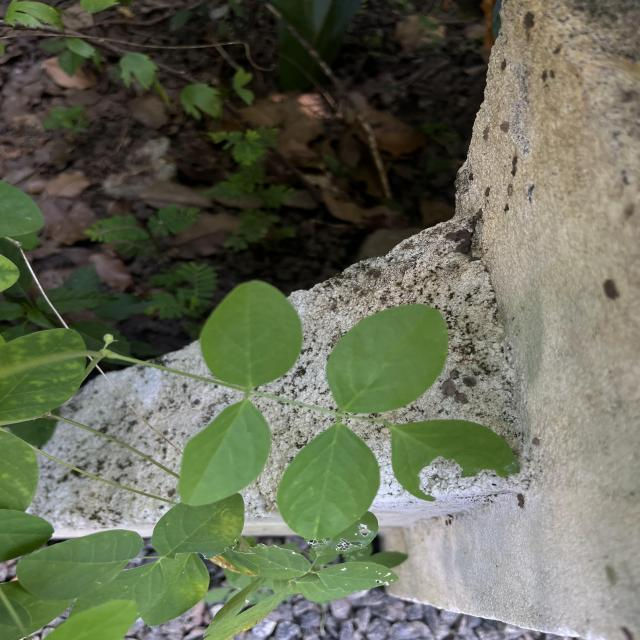Clitoria ternatea: (324, 302, 450, 418), (276, 423, 382, 541), (198, 279, 305, 391), (177, 400, 273, 508)
